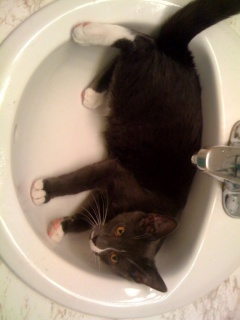Cat: (29, 0, 239, 293)
